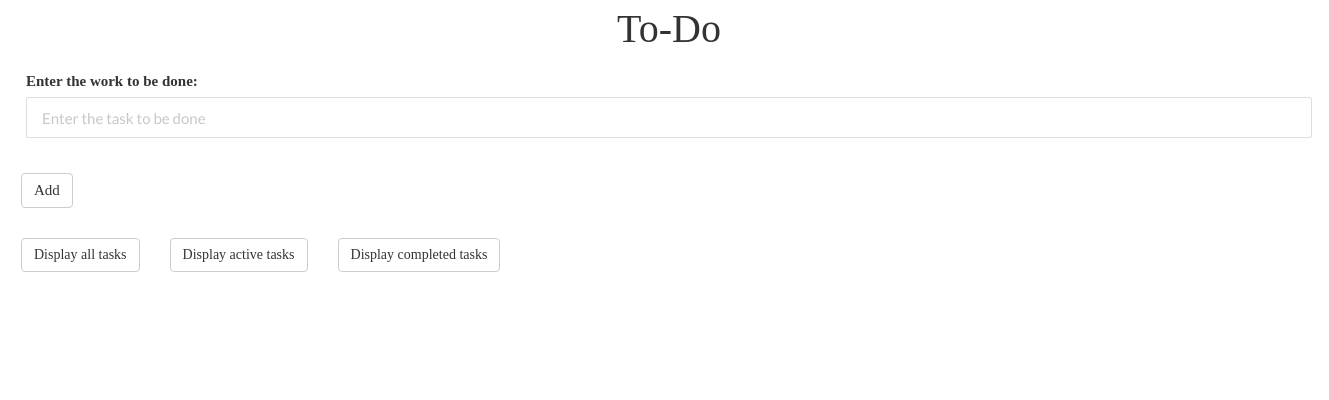
Scenario: Input form › Form submission › Adds a new todo when submitted
Step 1. Click the button with class "show-all" → (81, 255), box [21,238,140,272]
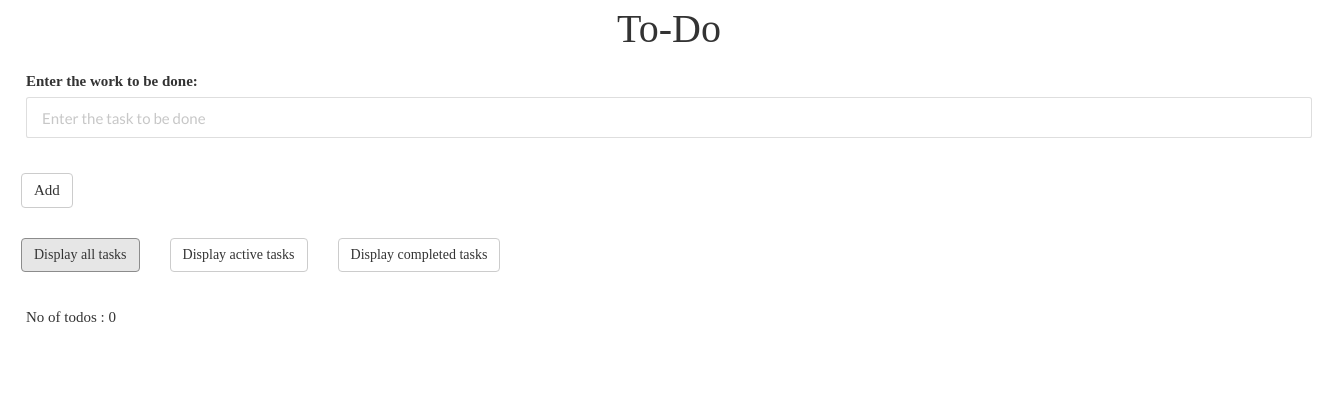
Step 2. Type "Learn about Cypress" into the field with class "new-todo" → (669, 118), box [26,97,1312,138]
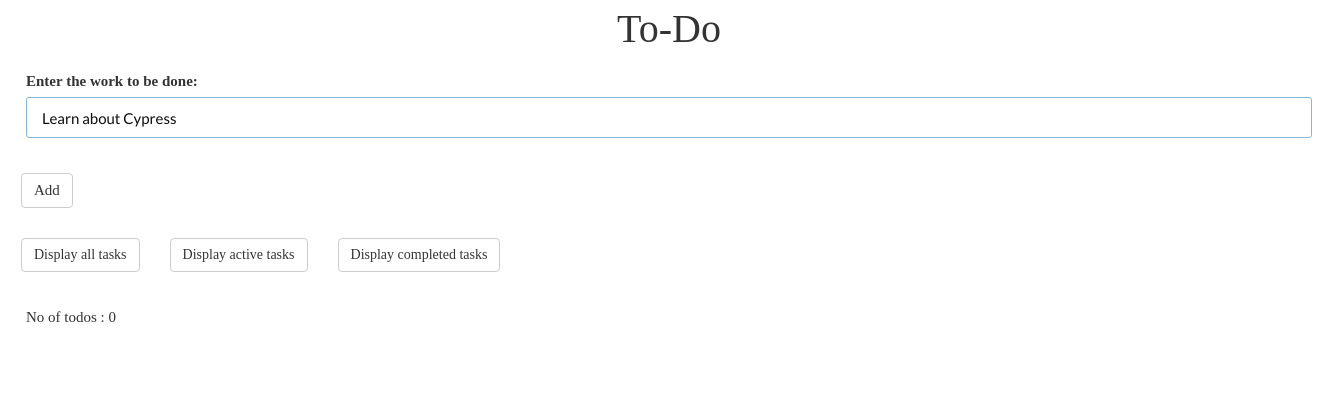
Step 3. Click the button with class "add-todo" → (47, 191), box [21,173,73,208]
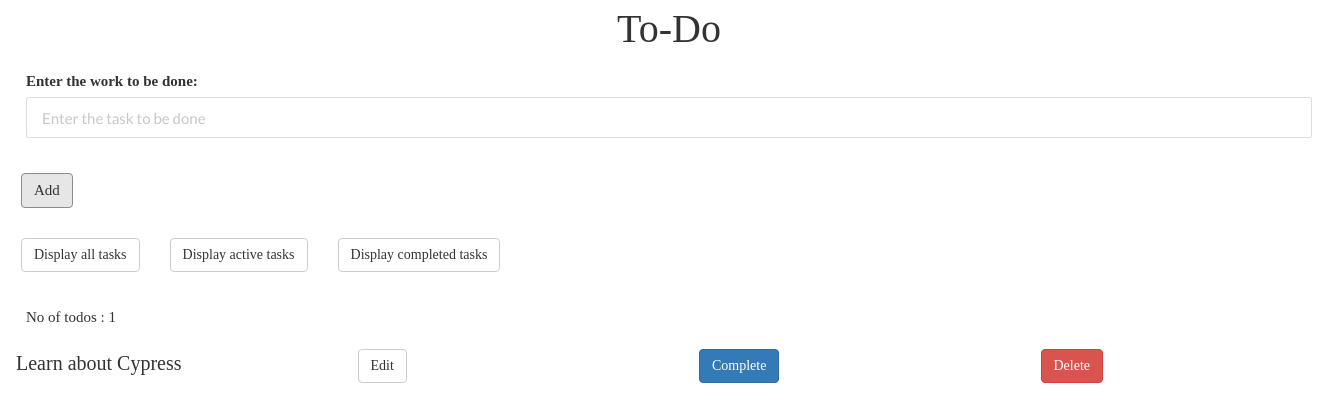
expect the text "Learn about Cypress" is shown: met, box [16,352,182,374]
